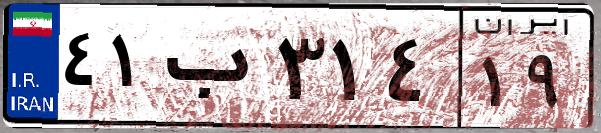1: (330, 28, 385, 110), (475, 38, 525, 113), (110, 28, 158, 98)
3: (270, 28, 330, 110)
4: (385, 28, 445, 110), (57, 26, 110, 100)
9: (525, 38, 570, 115)
ب: (158, 20, 270, 120)
